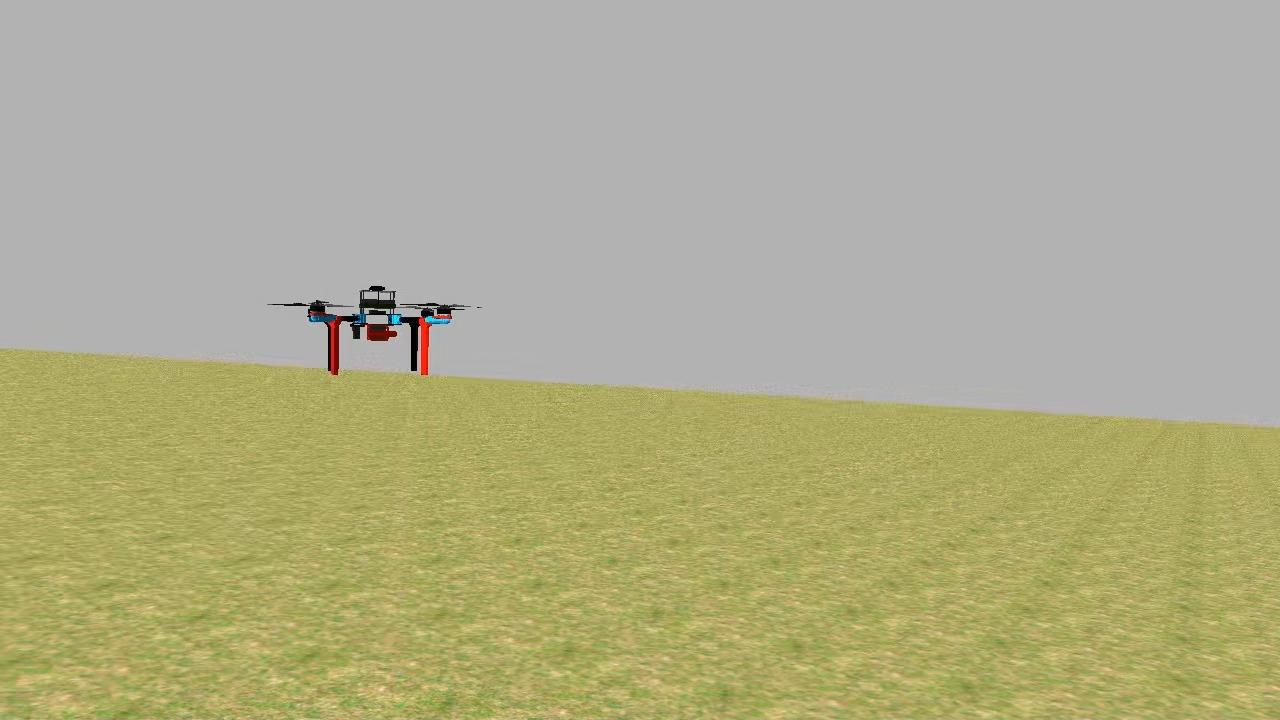UAV: (297, 277, 462, 387)
